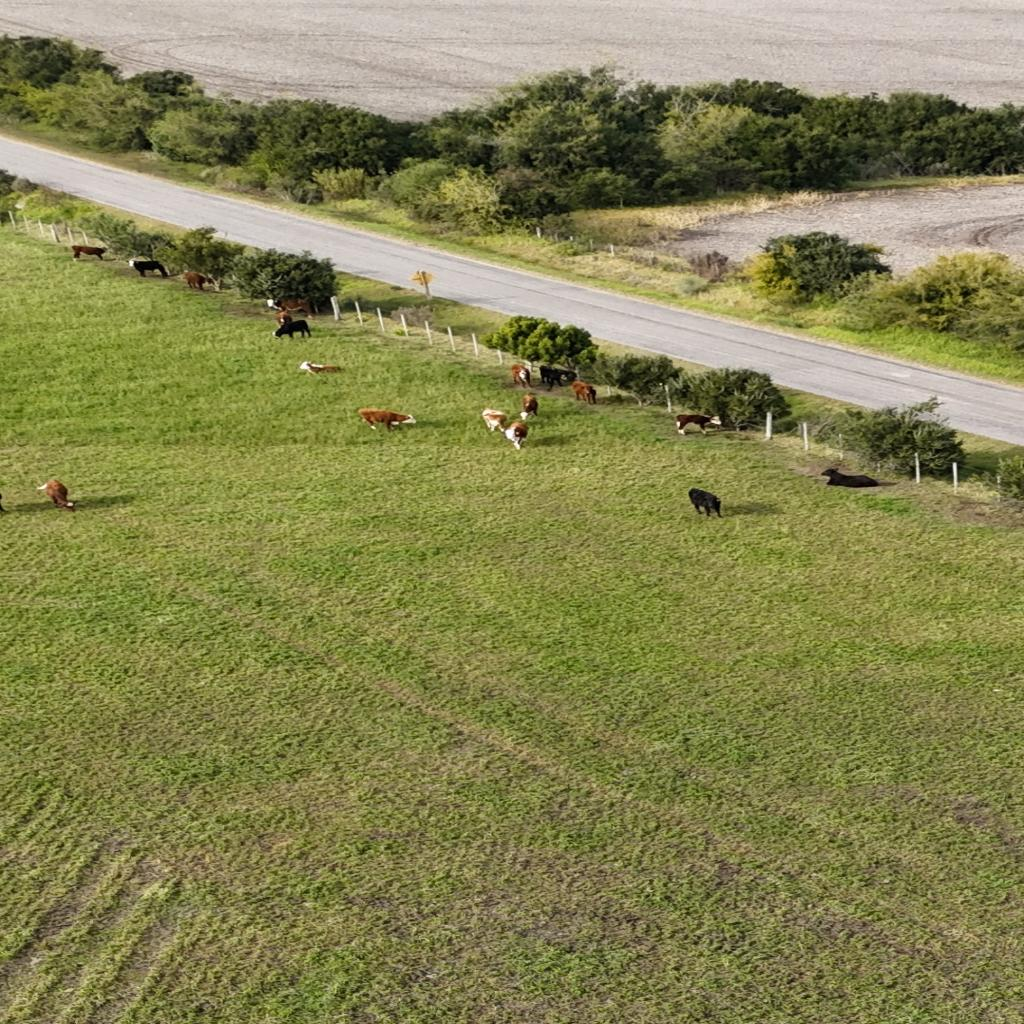cow: (820, 467, 886, 489), (358, 408, 418, 432), (36, 478, 78, 512), (688, 488, 726, 519), (674, 413, 724, 435), (265, 298, 313, 318), (498, 421, 533, 448), (538, 366, 576, 390), (126, 258, 170, 278), (272, 319, 312, 340), (480, 407, 508, 433), (182, 272, 217, 292), (572, 381, 599, 405), (70, 245, 110, 261), (299, 361, 344, 375), (508, 364, 530, 388), (521, 393, 539, 419)
